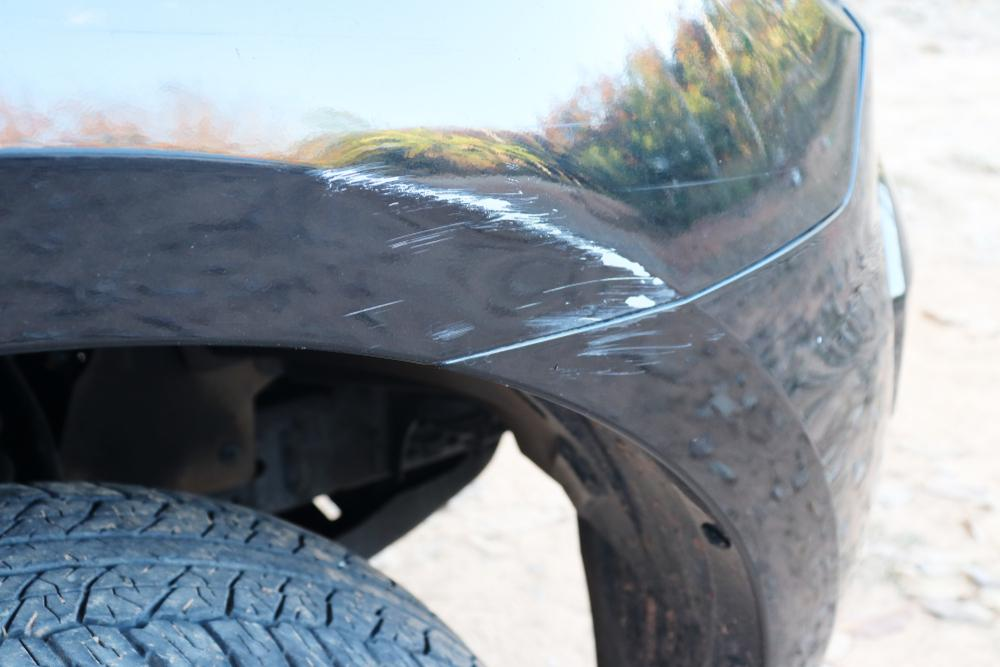scratch: (303, 156, 690, 353), (566, 315, 703, 389)
